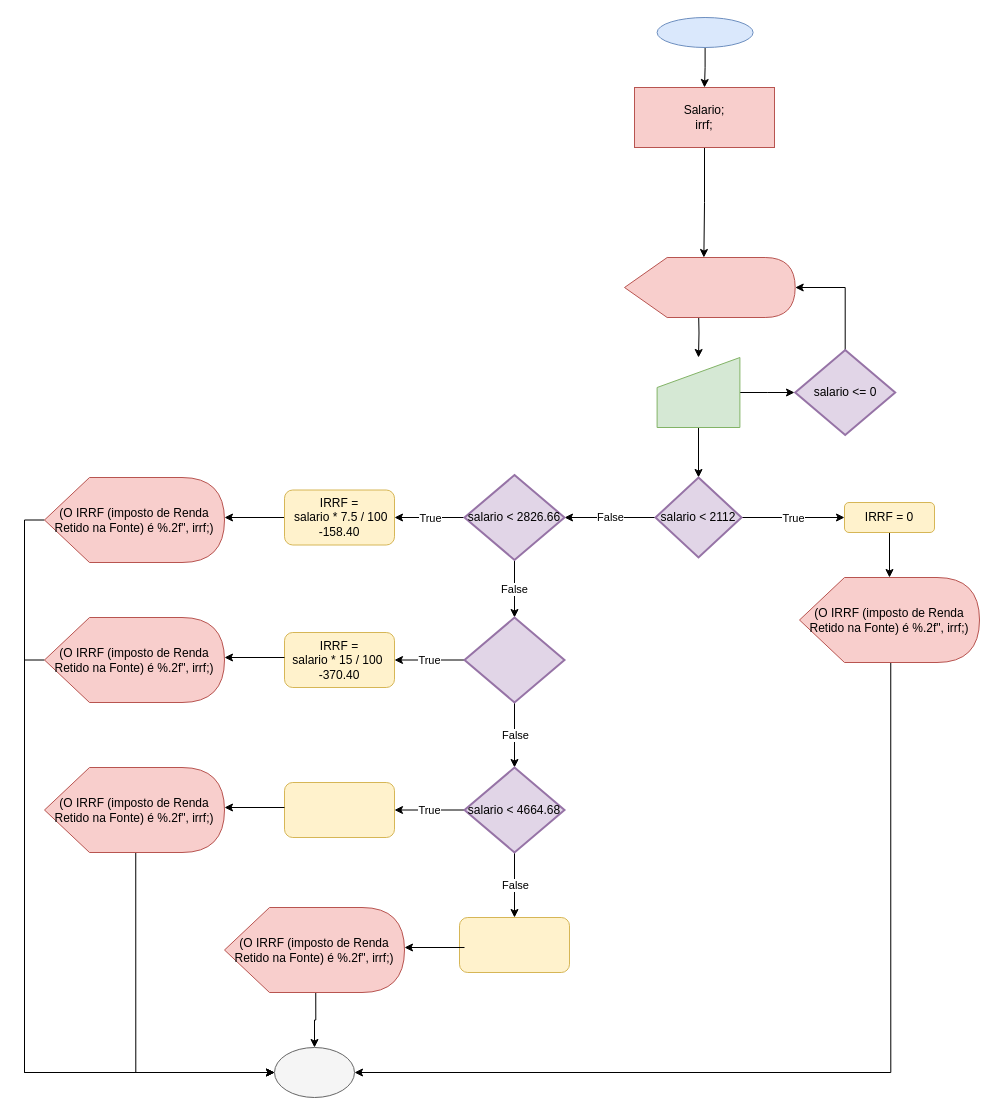
Some shapes in this 997 by 1115 pixel diagram are drawn without their labels. The centre of each missing label's shape, as x and y in pixels:
"Digite o salário do funcionário:" belongs at pixel 709 287.
"Fim" belongs at pixel 314 1072.
"Inicio" belongs at pixel 704 32.
"IRRF = salario * 22.5 / 100 -651.73" belongs at pixel 339 810.
"IRRF = salario * 27.5 / 100 -884.96" belongs at pixel 514 944.
"Salario" belongs at pixel 698 392.
"salario < 3751.06" belongs at pixel 514 659.
